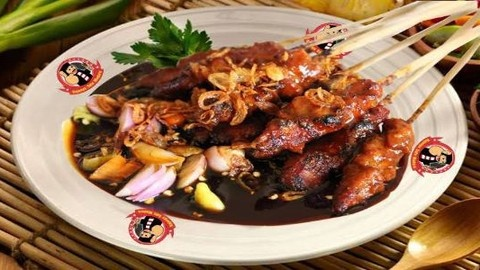sate_madura: (86, 16, 463, 209)
